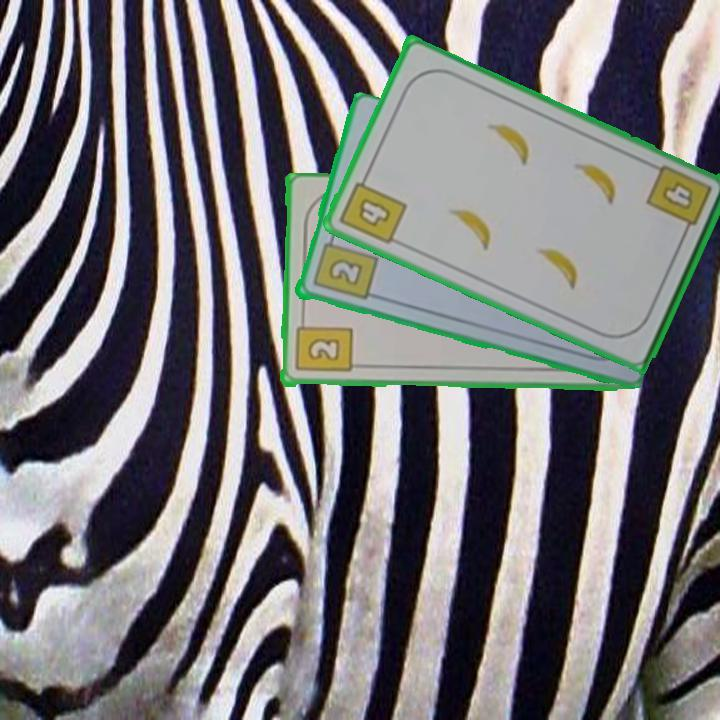2b: (309, 231, 380, 303), (292, 313, 354, 376)
4b: (336, 169, 410, 248), (642, 161, 715, 239)
